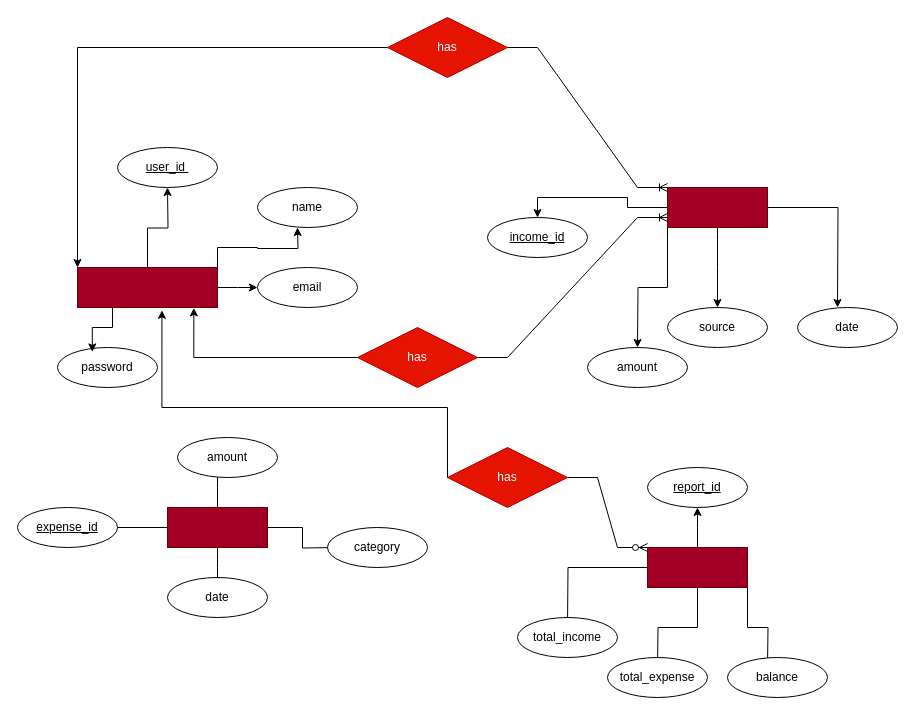
Some shapes in this 915 by 715 pixel diagram are drawn without their labels. Each missing label, with the box of its shape:
Expense: (166, 506, 268, 548)
Income: (666, 186, 768, 228)
Report: (646, 546, 748, 588)
User: (76, 266, 218, 308)
